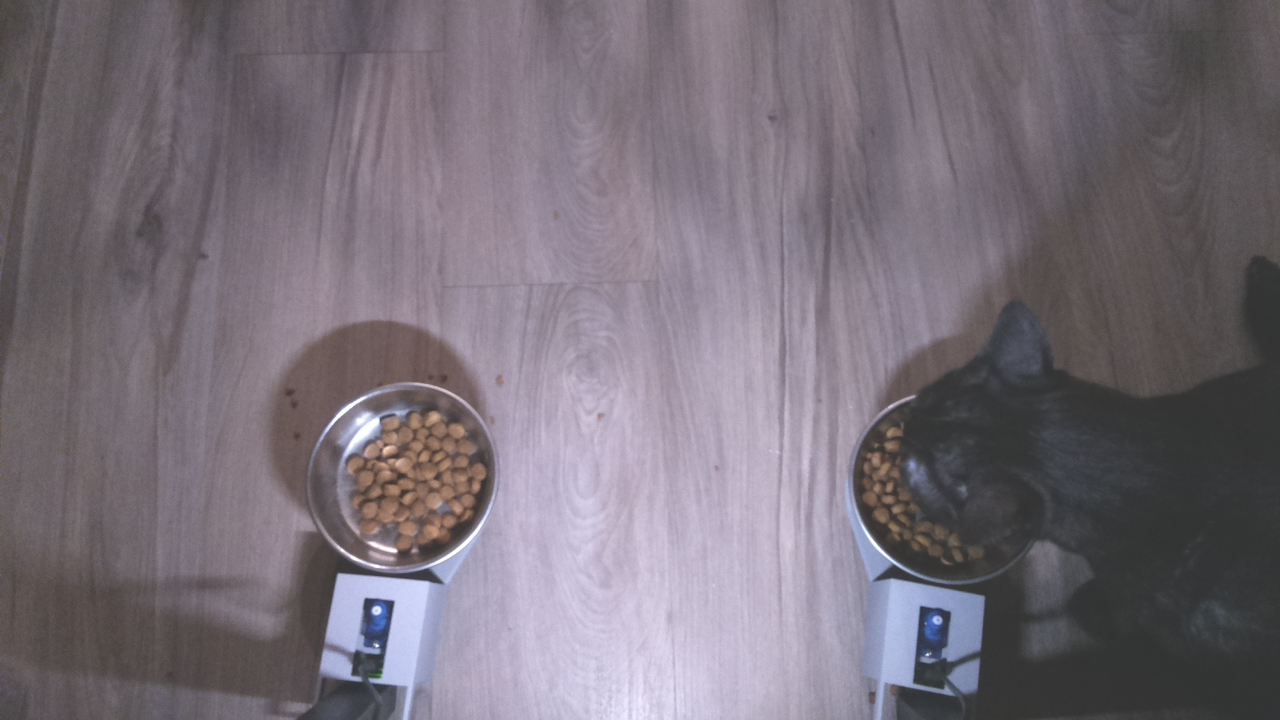open_bowl: (299, 379, 499, 580)
saki_eating: (847, 297, 1135, 592)
